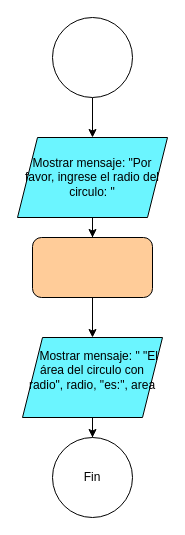
The diagram is 185 pixels wide and 535 high, and some of its shapes have lost their labels. The centre of each missing label's shape, as x and y in pixels:
"Definir y asignar a la variable área el resultado de pi * radio^2" goes at [92,267].
"Inicio" goes at [92,57].
